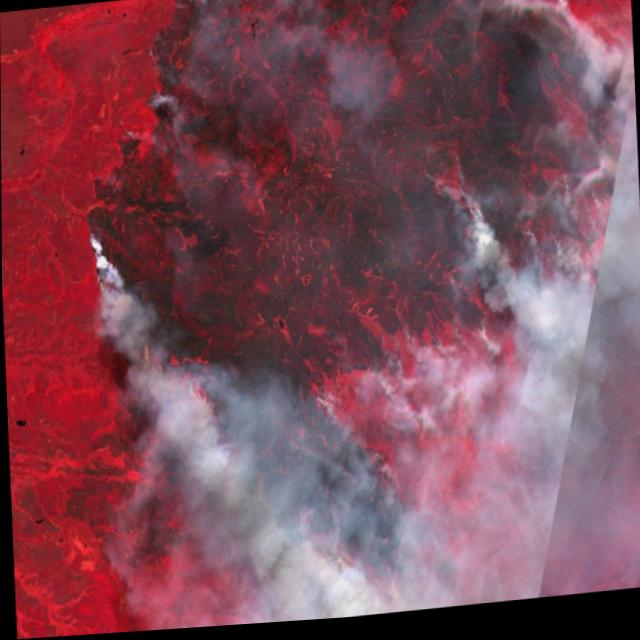fire: (70, 0, 640, 636)
